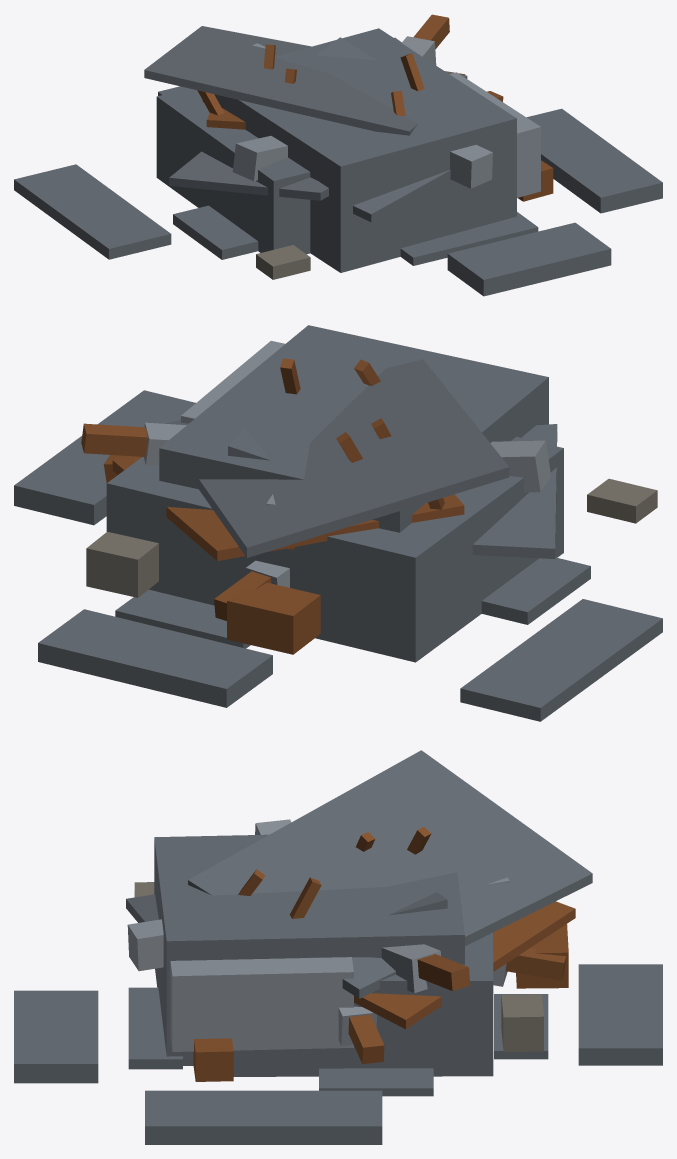
The model's file is rubble_pile.glb.
3 renders of one model, top to bottom at view 1: azimuth 30°, elevation 25°; view 2: azimuth 150°, elevation 25°; view 3: azimuth 270°, elevation 25°, orthographic. The views are drawn at different scales.
Visible parts, largest first — view 1: RubblePile_Large_LOD0, RubblePile_Med_LOD0; view 2: RubblePile_Large_LOD0, RubblePile_Med_LOD0; view 3: RubblePile_Large_LOD0, RubblePile_Med_LOD0.
Boxes of the visible parts, x1=… form: RubblePile_Large_LOD0: x1=14, y1=14, x2=662, y2=296; RubblePile_Med_LOD0: x1=173, y1=205, x2=538, y2=265; RubblePile_Large_LOD0: x1=14, y1=325, x2=662, y2=721; RubblePile_Med_LOD0: x1=115, y1=547, x2=590, y2=648; RubblePile_Large_LOD0: x1=14, y1=750, x2=662, y2=1144; RubblePile_Med_LOD0: x1=128, y1=987, x2=548, y2=1096.
Size of what is drawn, in the model's own units: 3.4 by 0.952 by 3.4.
